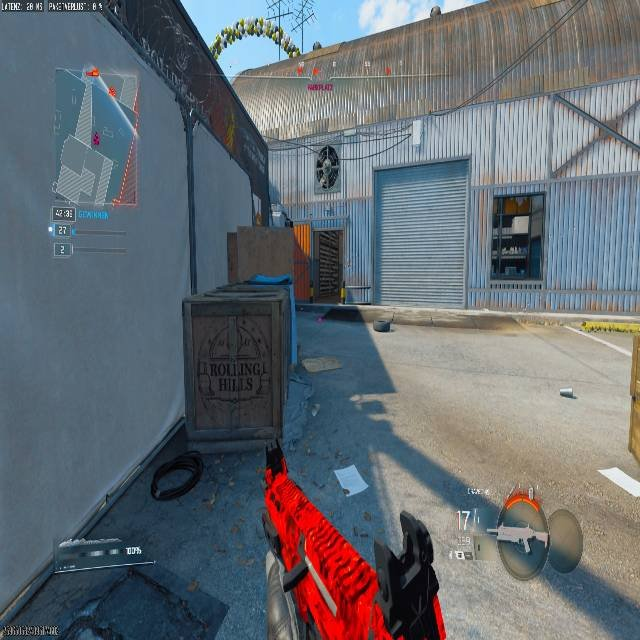player: (314, 142, 341, 195)
